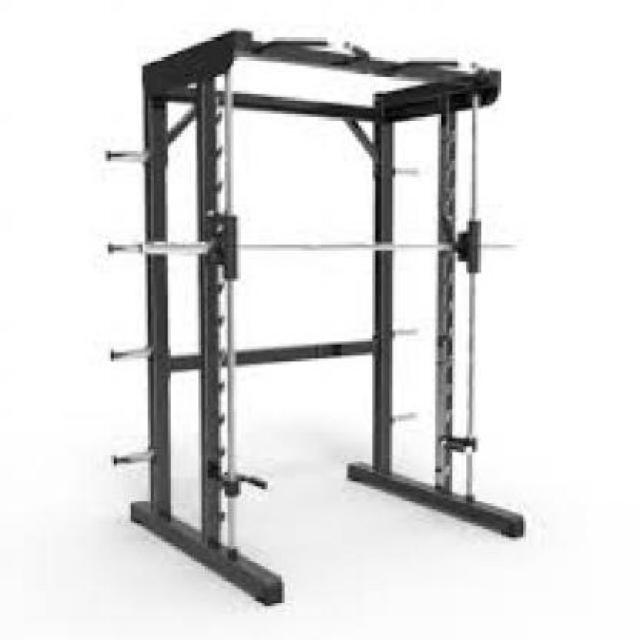smith machine: (106, 28, 526, 606)
